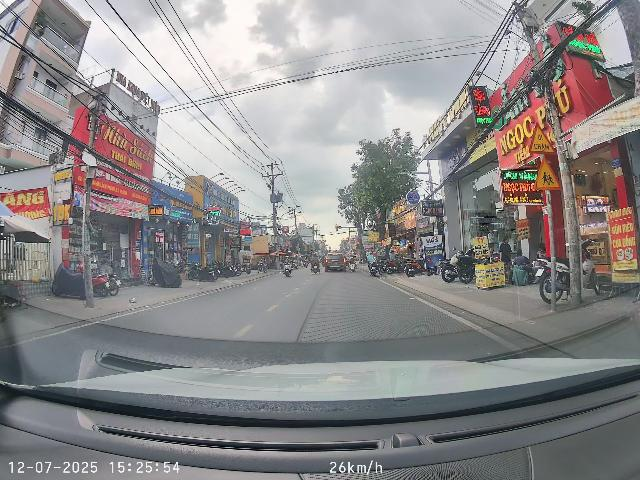225-chu-y-tre-em: (535, 157, 561, 191)
245-di-cham: (529, 122, 555, 155)
